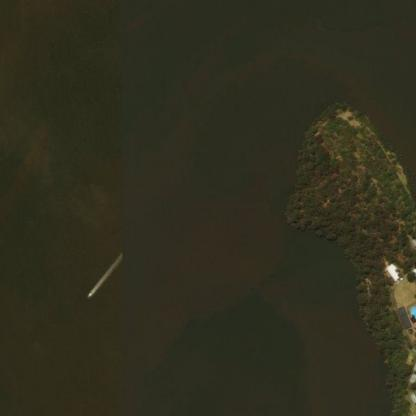ship: (82, 286, 97, 301)
